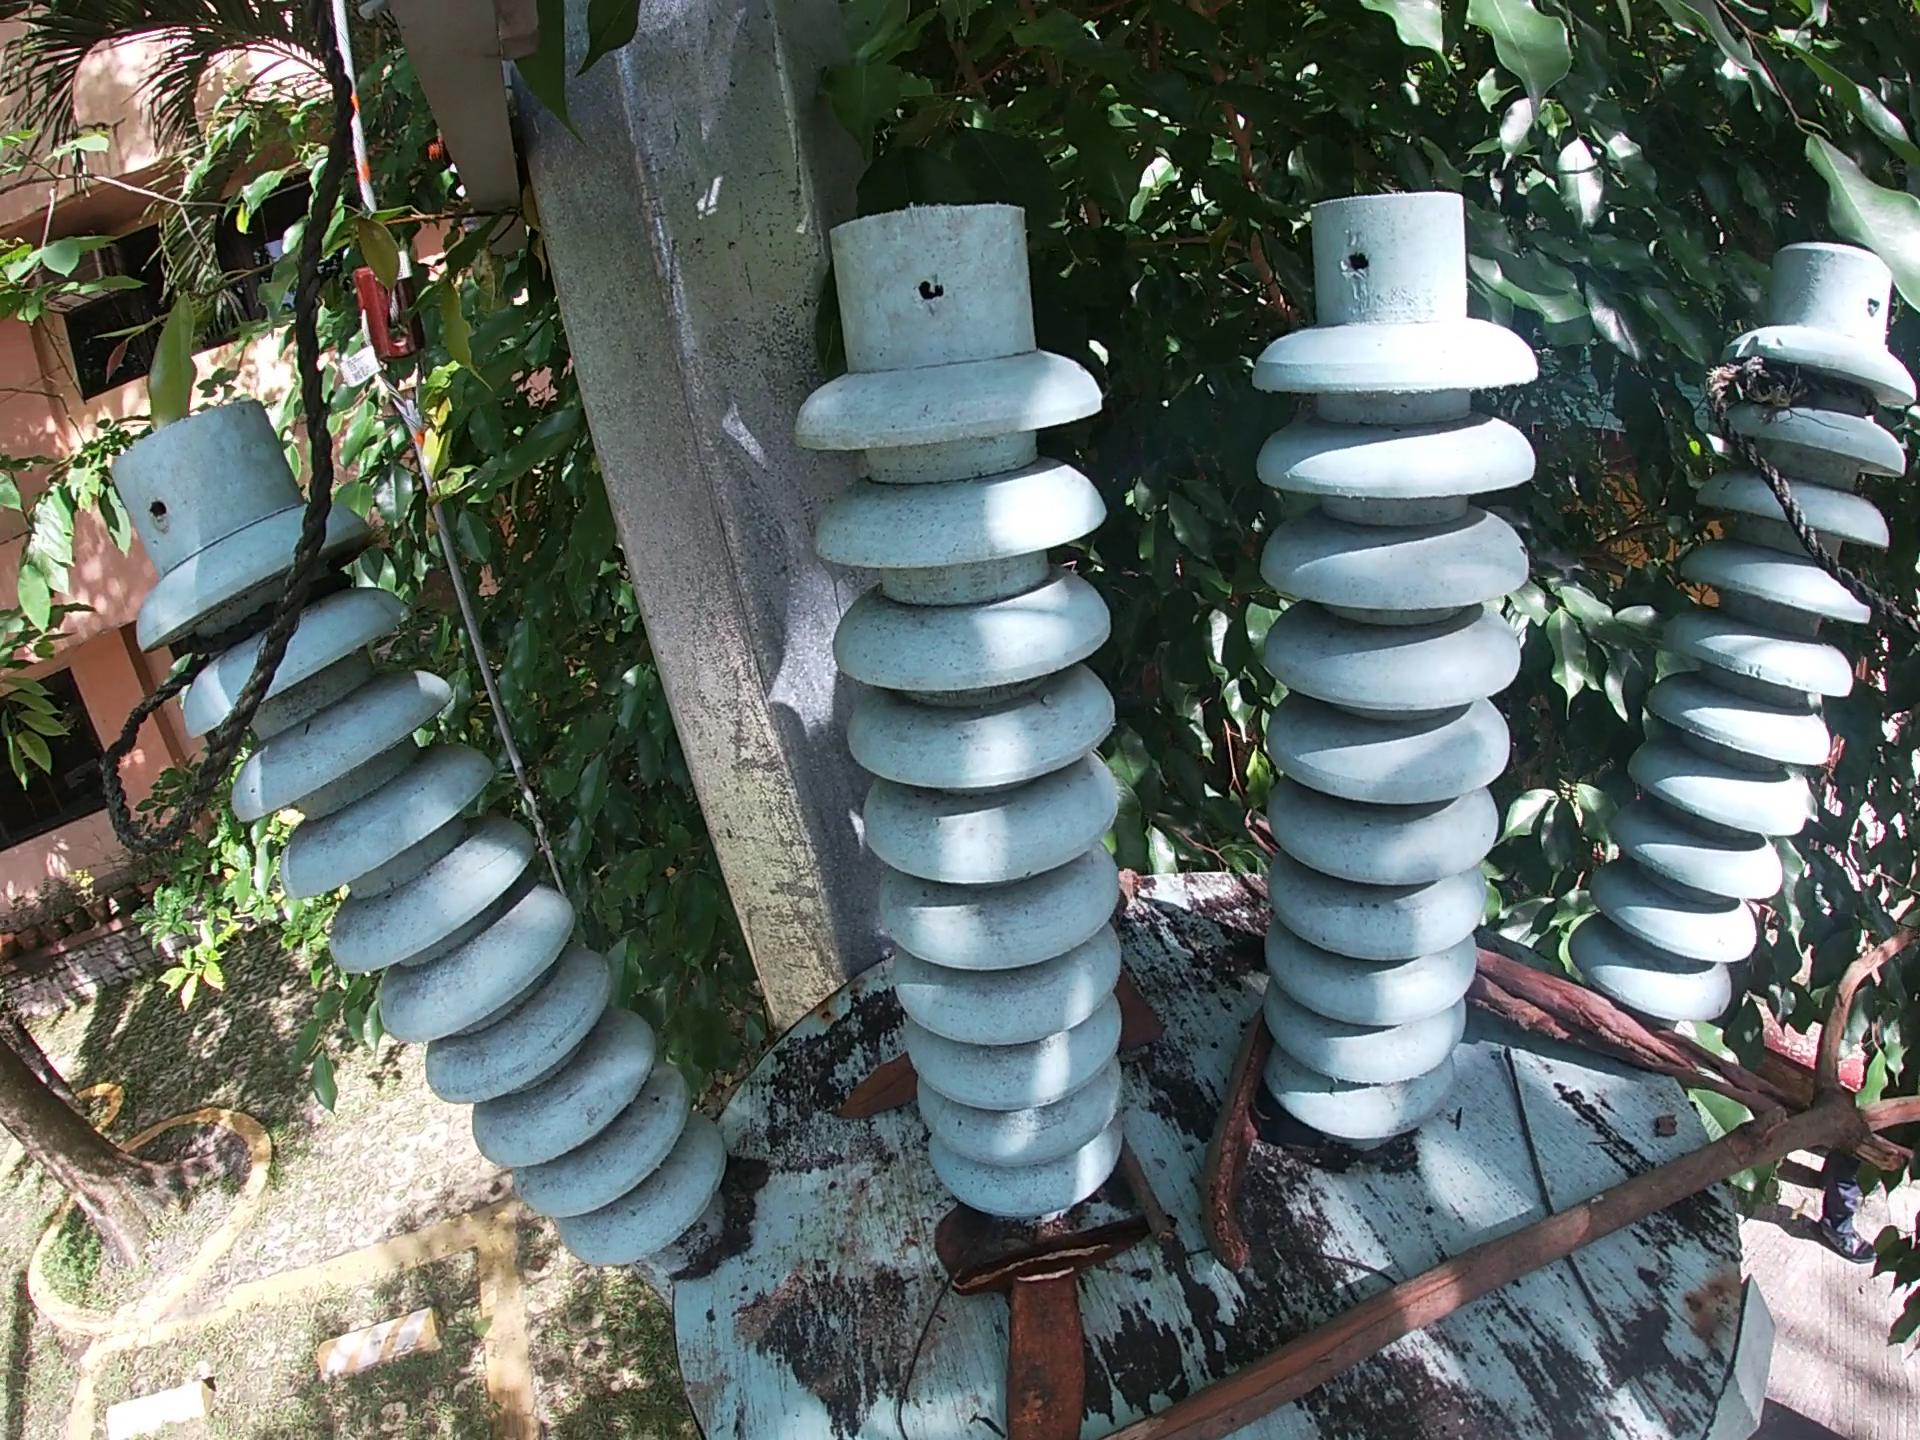leaf: (915, 1198, 996, 1272), (835, 1053, 892, 1148), (1120, 965, 1173, 1054)
mahogany fruit: (1206, 1009, 1288, 1295), (1010, 1258, 1110, 1440)
tree branch: (1476, 954, 1779, 1110), (1497, 1042, 1636, 1340), (875, 1263, 954, 1434), (977, 1213, 1125, 1296), (1128, 1156, 1175, 1280), (1113, 865, 1149, 924), (1241, 814, 1281, 859)
